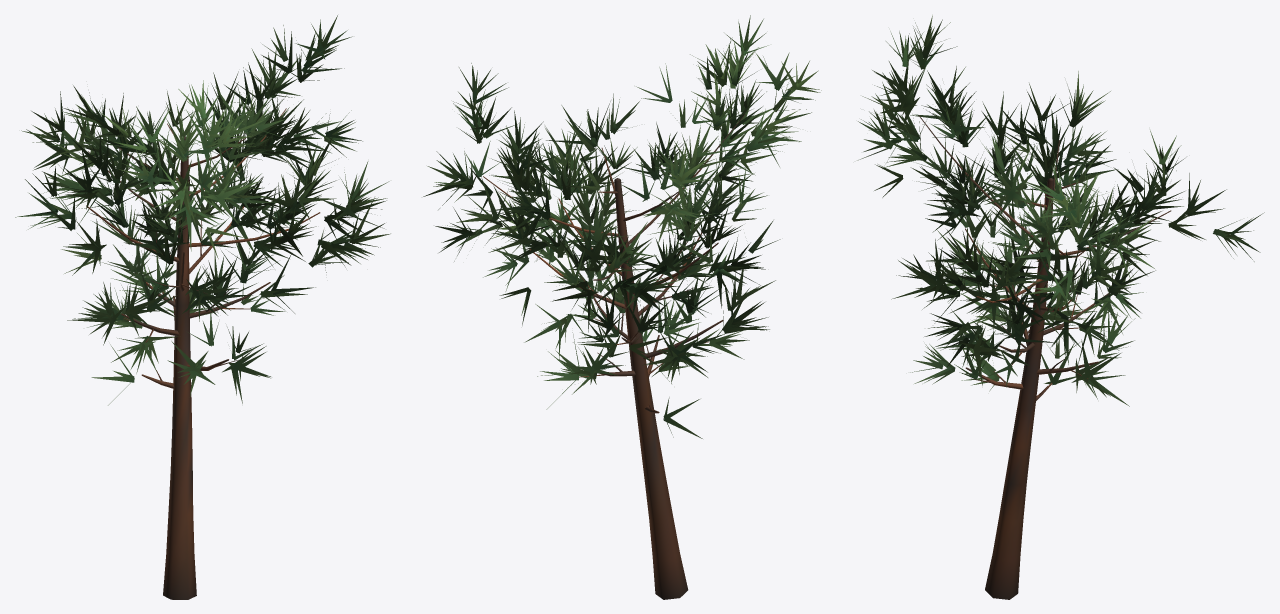
File: pine-b.lod1.glb
The picture shows the model from 3 angles, left to right: view 1: azimuth 30°, elevation 25°; view 2: azimuth 150°, elevation 25°; view 3: azimuth 270°, elevation 25°; orthographic projection. The views are drawn at different scales.
Bounding box in the file's own units: 7.33 × 11.75 × 8.04.
